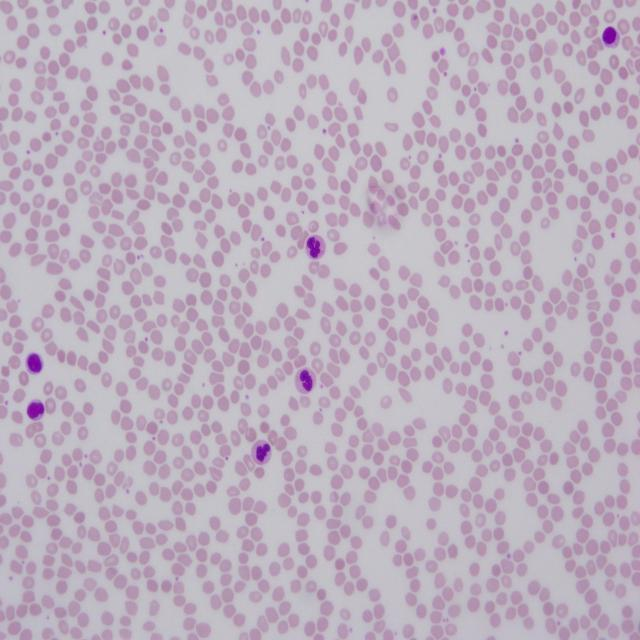cell: (295, 368, 316, 394), (251, 440, 271, 465), (305, 236, 325, 260)
